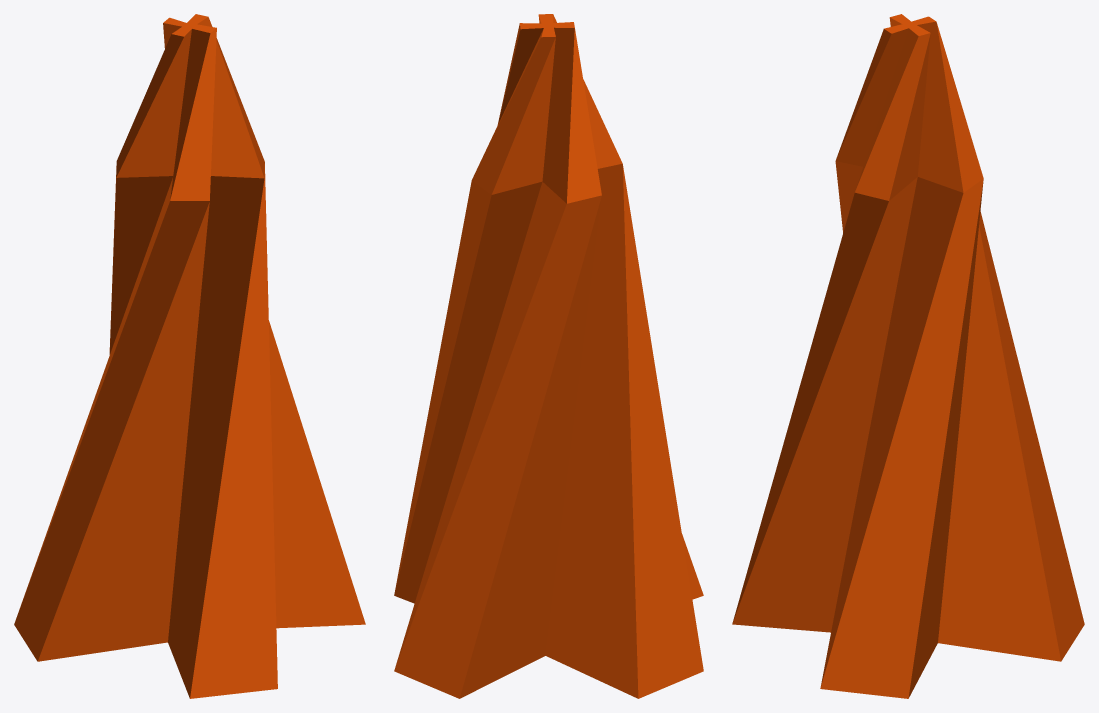
The model's file is tree-autumn-leaves-007.glb.
3 renders of one model, left to right at view 1: azimuth 30°, elevation 25°; view 2: azimuth 150°, elevation 25°; view 3: azimuth 270°, elevation 25°, orthographic.
Visible parts, largest first — view 1: Circle.019_332; view 2: Circle.019_332; view 3: Circle.019_332.
Part boxes in pixels (box(x1,y1,x2,y2)): Circle.019_332: box(14, 14, 365, 698); Circle.019_332: box(394, 14, 703, 698); Circle.019_332: box(732, 14, 1084, 698).
Size of the model in its own units: 0.7312 by 1.37 by 0.7312.
